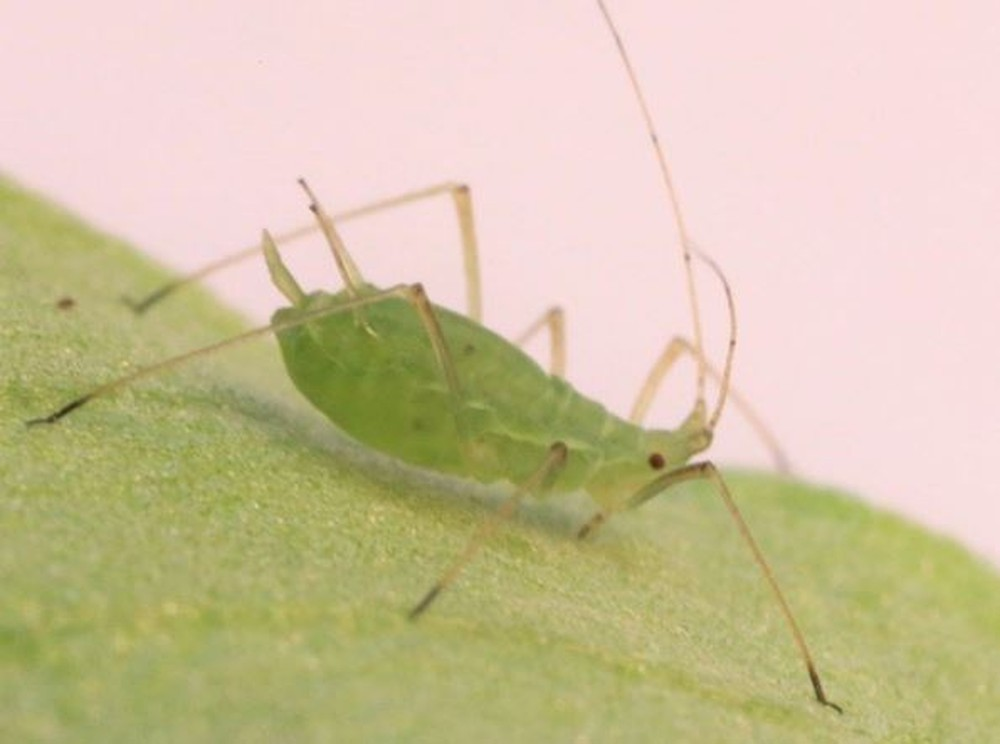Pulgon: (183, 118, 840, 654)
